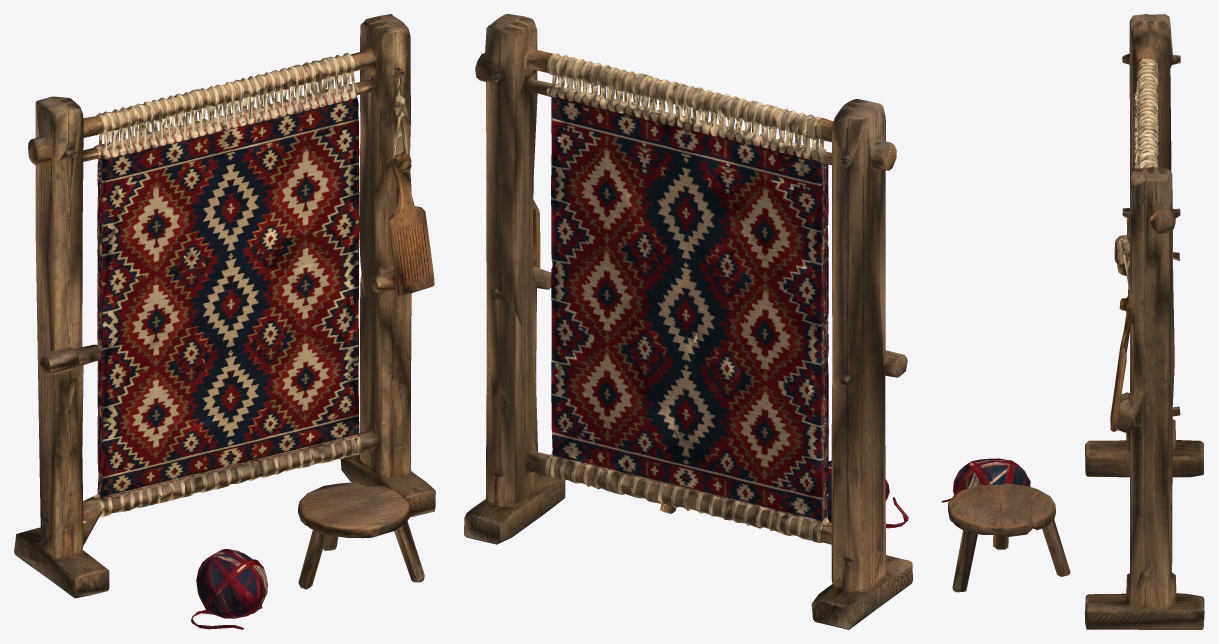
Rendered from city_nevsehir_carpet_loom.glb.
3 views of the same model, side by side, from view 1: azimuth 30°, elevation 25°; view 2: azimuth 150°, elevation 25°; view 3: azimuth 270°, elevation 25° (orthographic). The views are drawn at different scales.
Visible parts, largest first — view 1: Mesh1.0; view 2: Mesh1.0; view 3: Mesh1.0.
Part boxes in pixels (bbox=[...]): Mesh1.0: bbox=[14, 14, 435, 629]; Mesh1.0: bbox=[464, 14, 912, 629]; Mesh1.0: bbox=[942, 14, 1204, 629].
Size of the model in its own units: 1.71 by 2 by 1.06.
1 material, 1 textured.
